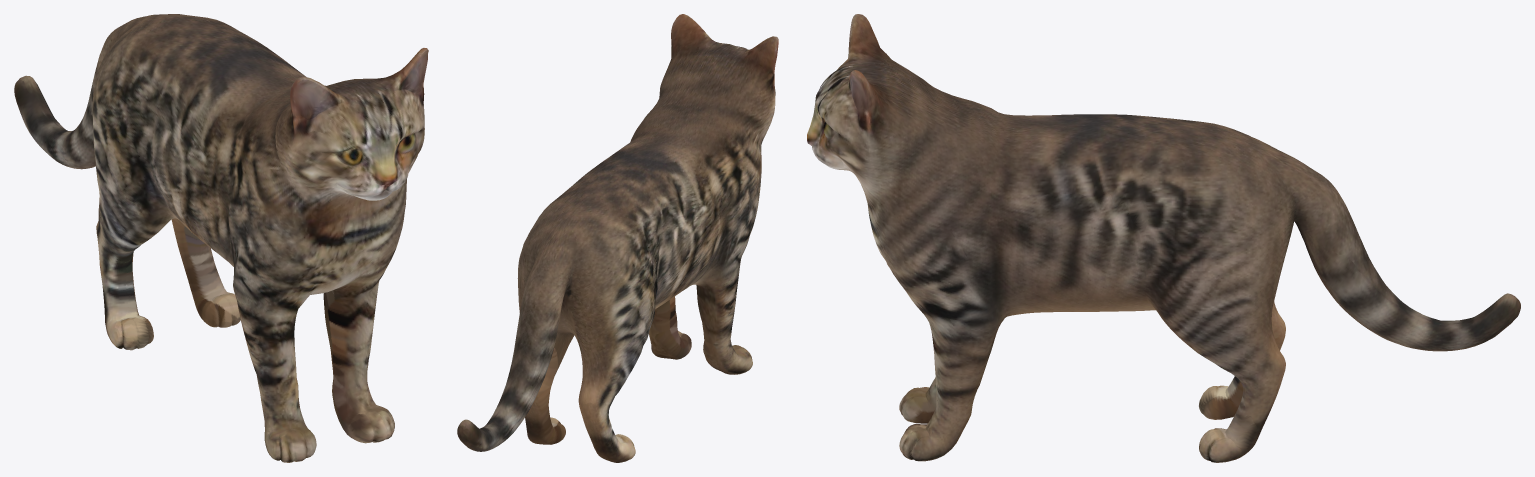
File: gato.glb
The picture shows the model from 3 angles, left to right: view 1: azimuth 30°, elevation 25°; view 2: azimuth 150°, elevation 25°; view 3: azimuth 270°, elevation 25°; orthographic projection. The views are drawn at different scales.
Parts seen in each view (by area): view 1: model; view 2: model; view 3: model.
Part boxes in pixels (bbox=[...]): model: bbox=[14, 14, 428, 462]; model: bbox=[457, 14, 778, 462]; model: bbox=[807, 14, 1520, 462].
Size of the model in its own units: 0.3754 by 1 by 1.64.
Materials: 1 (1 with a texture image).
